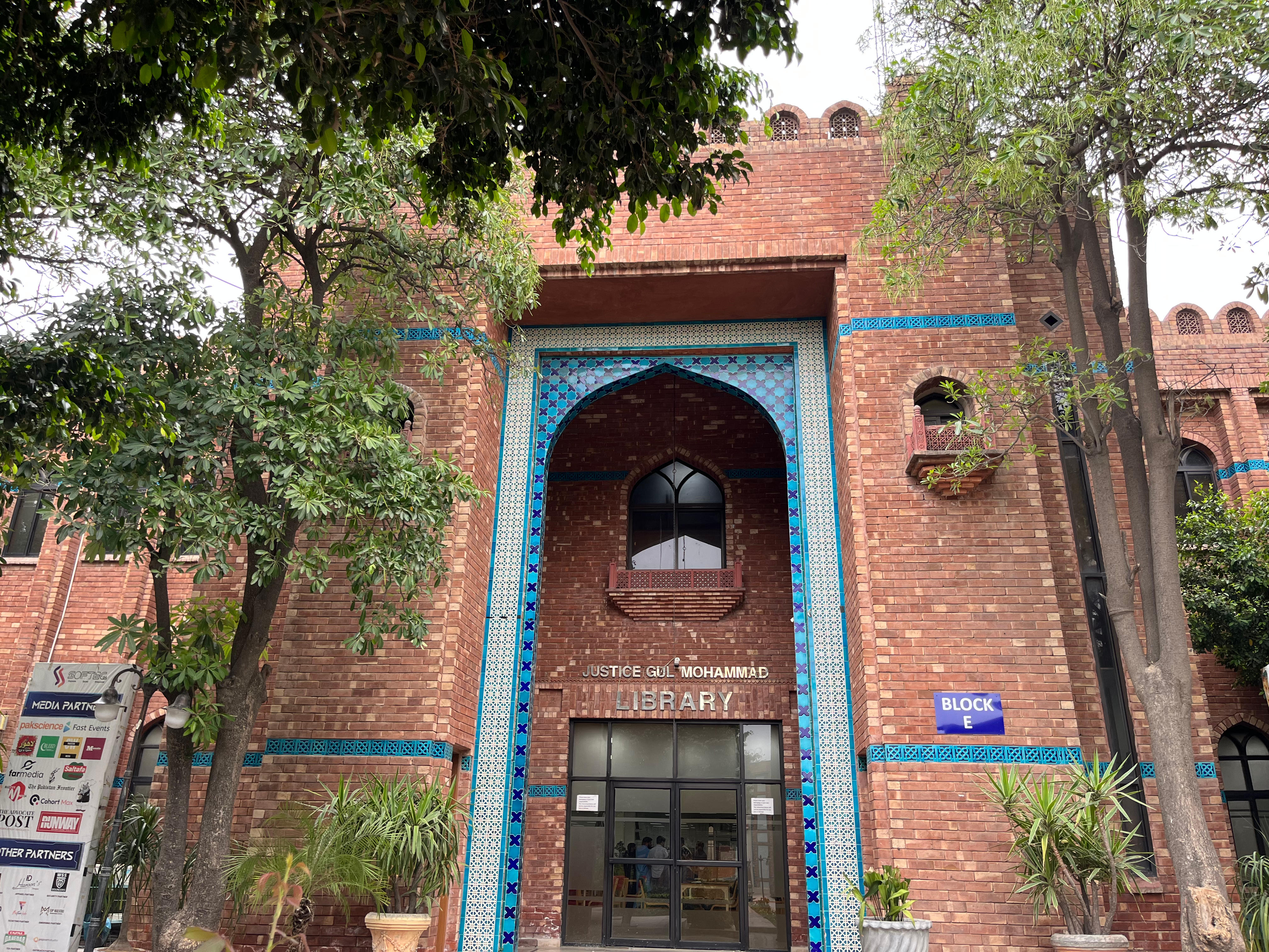Block E: (0, 97, 1264, 952)
